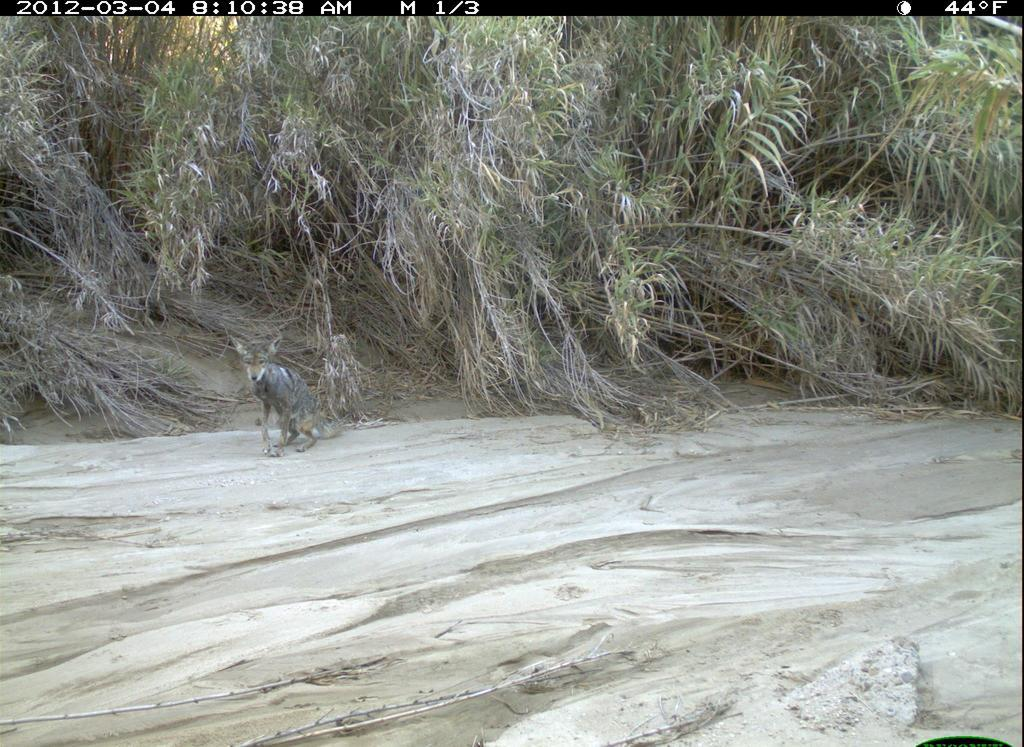coyote: (214, 315, 350, 464)
